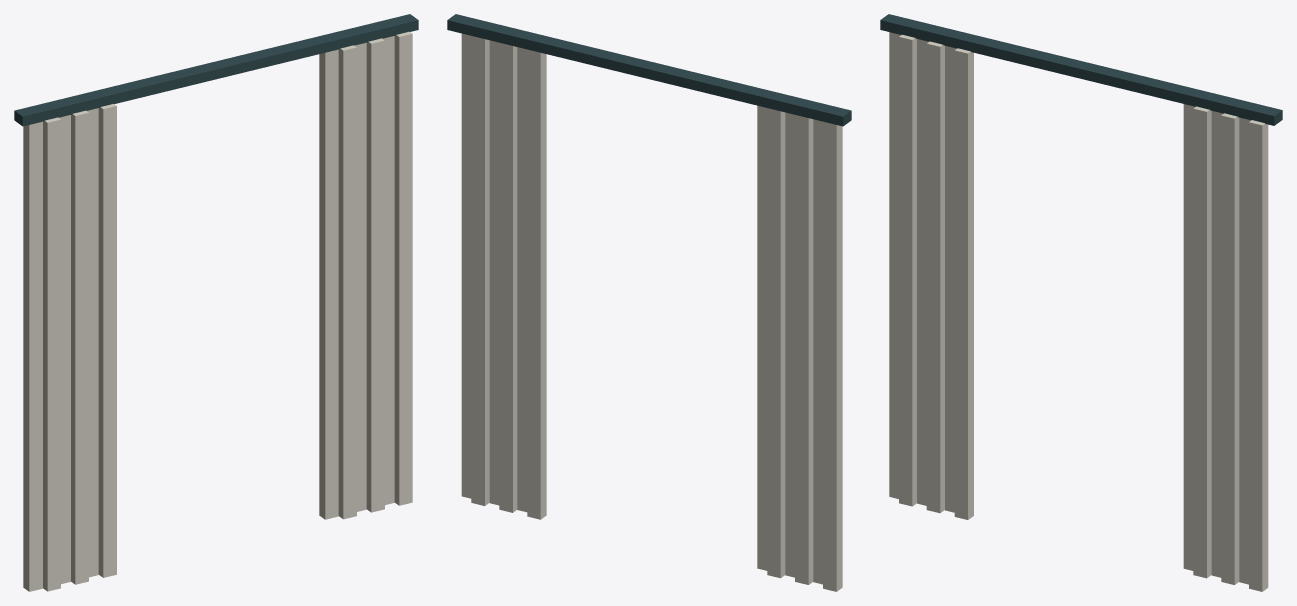
The model's file is motorized_curtain.glb.
3 views of the same model, side by side, from view 1: azimuth 30°, elevation 25°; view 2: azimuth 150°, elevation 25°; view 3: azimuth 330°, elevation 25° (orthographic).
Visible parts, largest first — view 1: curtain-pleat-6, curtain-pleat-0, curtain-pleat-7, curtain-pleat-9, curtain-pleat-11, curtain-pleat-5, curtain-pleat-1, curtain-pleat-3, rail, curtain-pleat-4, curtain-pleat-8, curtain-pleat-10 (+1 smaller); view 2: curtain-pleat-6, curtain-pleat-0, curtain-pleat-4, curtain-pleat-8, curtain-pleat-10, curtain-pleat-2, rail, curtain-pleat-7, curtain-pleat-9, curtain-pleat-5, curtain-pleat-11, curtain-pleat-1 (+1 smaller); view 3: curtain-pleat-5, curtain-pleat-11, curtain-pleat-3, curtain-pleat-9, curtain-pleat-7, curtain-pleat-1, rail, curtain-pleat-6, curtain-pleat-8, curtain-pleat-10, curtain-pleat-2, curtain-pleat-4 (+1 smaller).
Part boxes in pixels (bbox=[...]): curtain-pleat-6: bbox=[319, 49, 338, 519]; curtain-pleat-0: bbox=[23, 121, 42, 591]; curtain-pleat-7: bbox=[338, 45, 356, 519]; curtain-pleat-9: bbox=[366, 38, 384, 512]; curtain-pleat-11: bbox=[394, 31, 412, 505]; curtain-pleat-5: bbox=[98, 104, 116, 577]; curtain-pleat-1: bbox=[43, 117, 60, 591]; curtain-pleat-3: bbox=[71, 110, 88, 584]; rail: bbox=[14, 14, 418, 126]; curtain-pleat-4: bbox=[87, 108, 98, 577]; curtain-pleat-8: bbox=[355, 42, 366, 511]; curtain-pleat-10: bbox=[382, 36, 394, 504]; curtain-pleat-6: bbox=[527, 49, 546, 519]; curtain-pleat-0: bbox=[823, 121, 842, 591]; curtain-pleat-4: bbox=[767, 108, 785, 578]; curtain-pleat-8: bbox=[499, 42, 517, 512]; curtain-pleat-10: bbox=[471, 36, 489, 505]; curtain-pleat-2: bbox=[795, 115, 813, 584]; rail: bbox=[447, 14, 851, 126]; curtain-pleat-7: bbox=[517, 47, 527, 512]; curtain-pleat-9: bbox=[489, 40, 499, 505]; curtain-pleat-5: bbox=[757, 105, 767, 570]; curtain-pleat-11: bbox=[461, 33, 471, 498]; curtain-pleat-1: bbox=[813, 119, 822, 584]; curtain-pleat-5: bbox=[954, 48, 973, 519]; curtain-pleat-11: bbox=[1249, 120, 1268, 591]; curtain-pleat-3: bbox=[926, 41, 944, 513]; curtain-pleat-9: bbox=[1221, 113, 1239, 584]; curtain-pleat-7: bbox=[1193, 106, 1211, 578]; curtain-pleat-1: bbox=[899, 34, 916, 506]; rail: bbox=[880, 14, 1282, 125]; curtain-pleat-6: bbox=[1183, 104, 1195, 570]; curtain-pleat-8: bbox=[1211, 111, 1222, 577]; curtain-pleat-10: bbox=[1239, 117, 1250, 584]; curtain-pleat-2: bbox=[917, 39, 928, 505]; curtain-pleat-4: bbox=[945, 45, 956, 512].
Size of the model in its own units: 1.9 by 2.19 by 0.095.
